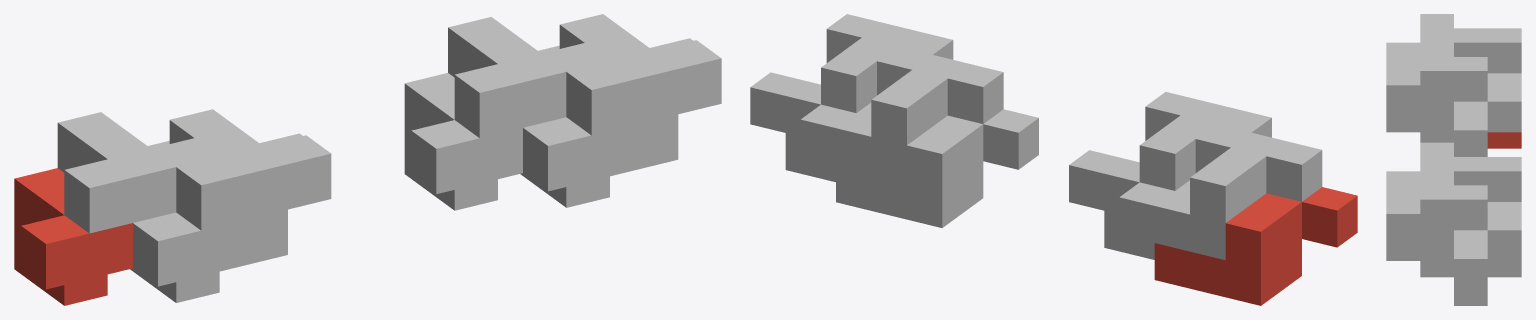
The model's file is tiling.obj.
3 views of the same model, side by side, from view 1: azimuth 30°, elevation 25°; view 2: azimuth 150°, elevation 25°; view 3: azimuth 270°, elevation 25° (orthographic). The views are drawn at different scales.
Parts seen in each view (by area): view 1: copy_1_domain_8, copy_1_domain_4, copy_1_domain_3, copy_1_domain_7, copy_1_domain_1, copy_1_domain_5, copy_1_domain_6, copy_1_domain_2; view 2: copy_1_domain_3, copy_1_domain_7, copy_1_domain_1, copy_1_domain_5, copy_1_domain_8, copy_1_domain_4, copy_1_domain_6, copy_1_domain_2; view 3: copy_1_domain_8, copy_1_domain_4, copy_1_domain_3, copy_1_domain_7, copy_1_domain_6, copy_1_domain_2, copy_1_domain_1, copy_1_domain_5.
Boxes of the visible parts, <box> form: copy_1_domain_8: <box>559,14,721,135</box>; copy_1_domain_4: <box>169,109,331,230</box>; copy_1_domain_3: <box>57,112,219,233</box>; copy_1_domain_7: <box>448,17,609,138</box>; copy_1_domain_1: <box>14,168,132,305</box>; copy_1_domain_5: <box>404,73,522,210</box>; copy_1_domain_6: <box>520,114,678,207</box>; copy_1_domain_2: <box>130,209,287,302</box>; copy_1_domain_3: <box>1119,124,1322,260</box>; copy_1_domain_7: <box>800,46,1003,182</box>; copy_1_domain_1: <box>1154,187,1357,305</box>; copy_1_domain_5: <box>836,109,1038,227</box>; copy_1_domain_8: <box>750,14,953,136</box>; copy_1_domain_4: <box>1069,92,1271,214</box>; copy_1_domain_6: <box>785,102,871,182</box>; copy_1_domain_2: <box>1104,180,1189,259</box>; copy_1_domain_8: <box>1386,171,1487,289</box>; copy_1_domain_4: <box>1386,42,1487,156</box>; copy_1_domain_3: <box>1420,14,1521,132</box>; copy_1_domain_7: <box>1420,142,1521,260</box>; copy_1_domain_6: <box>1386,244,1487,305</box>; copy_1_domain_2: <box>1386,116,1453,142</box>; copy_1_domain_1: <box>1487,132,1521,148</box>; copy_1_domain_5: <box>1487,261,1521,277</box>.
Bounding box in the file's own units: 16 × 3 × 4.
